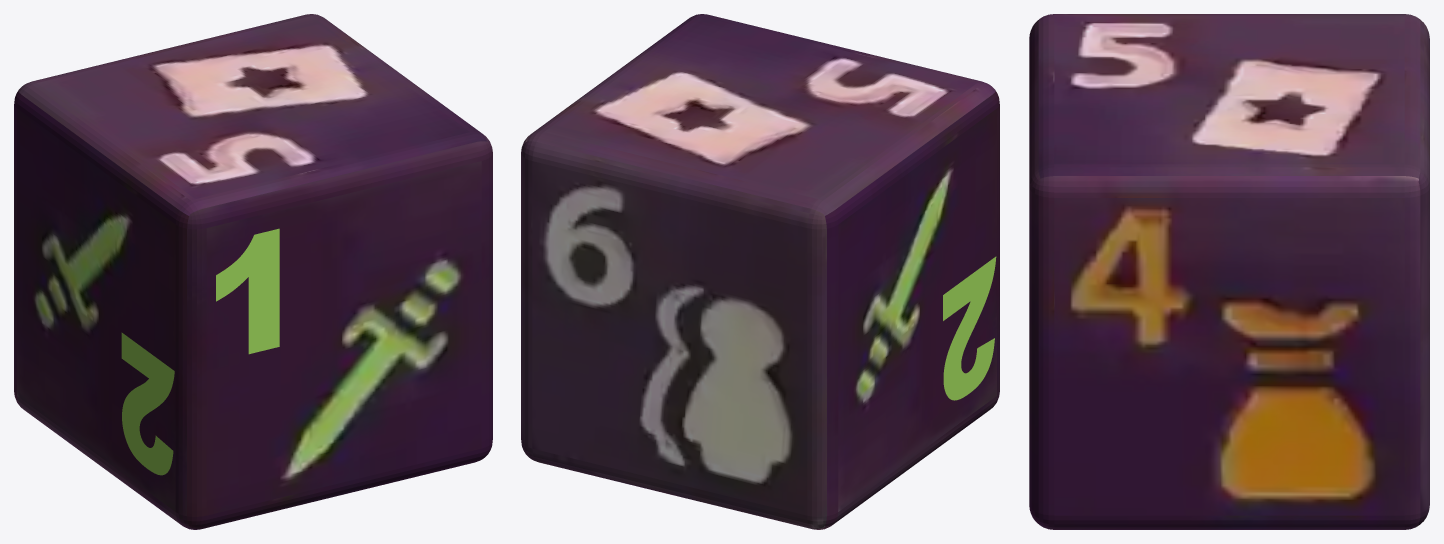
Rendered from sThief Dice.fbx.
3 renders of one model, left to right at view 1: azimuth 30°, elevation 25°; view 2: azimuth 150°, elevation 25°; view 3: azimuth 270°, elevation 25°, orthographic. The views are drawn at different scales.
Parts seen in each view (by area): view 1: sThief Dice; view 2: sThief Dice; view 3: sThief Dice.
Part boxes in pixels (left/top/right/bottom): sThief Dice: left=14, top=14, right=492, bottom=529; sThief Dice: left=521, top=14, right=999, bottom=529; sThief Dice: left=1029, top=14, right=1429, bottom=529.
Bounding box in the file's own units: 113 × 113 × 113.
Materials: 3 (1 with a texture image).
